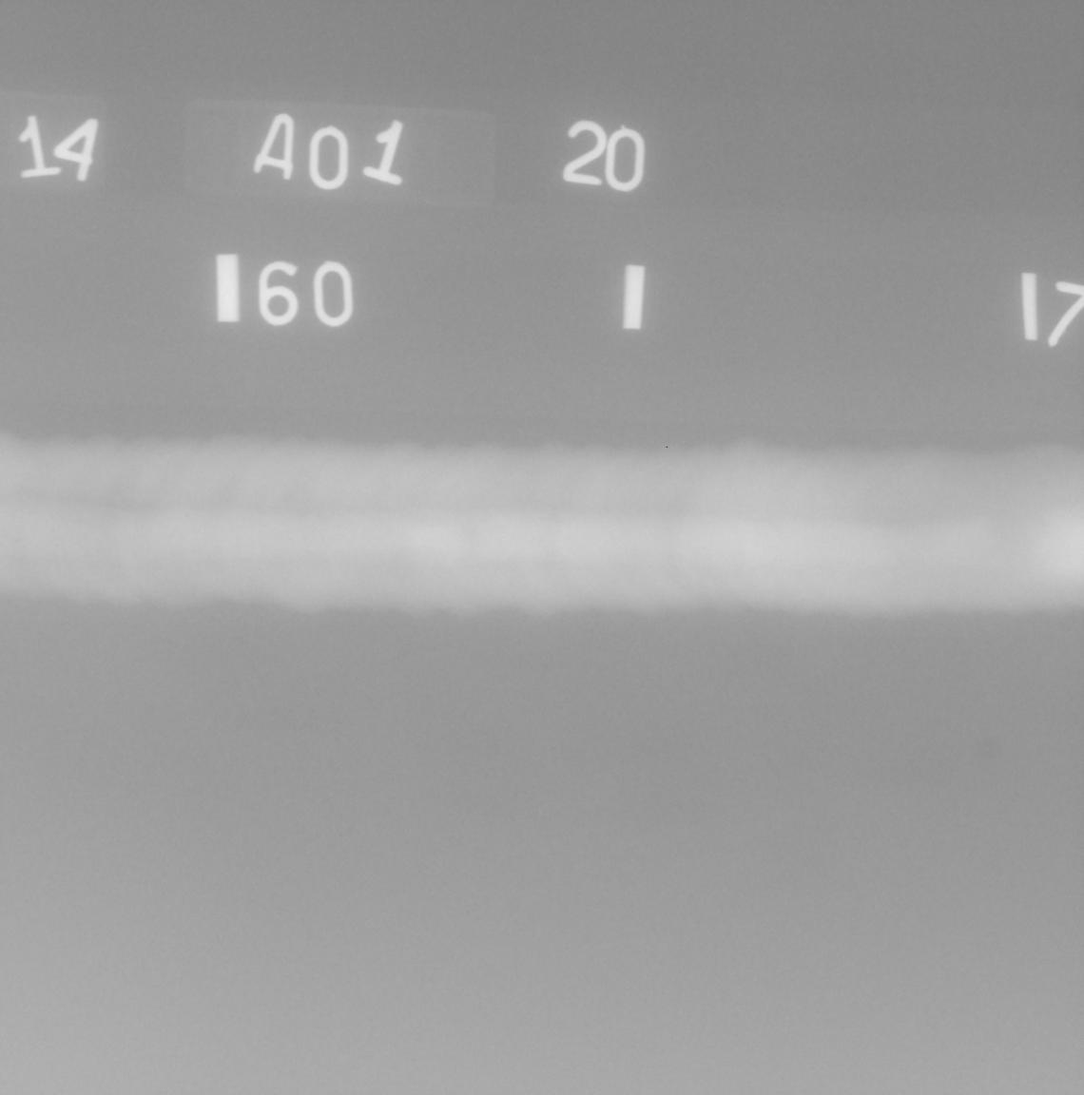Pore/Porosity: (13, 537, 20, 543)
